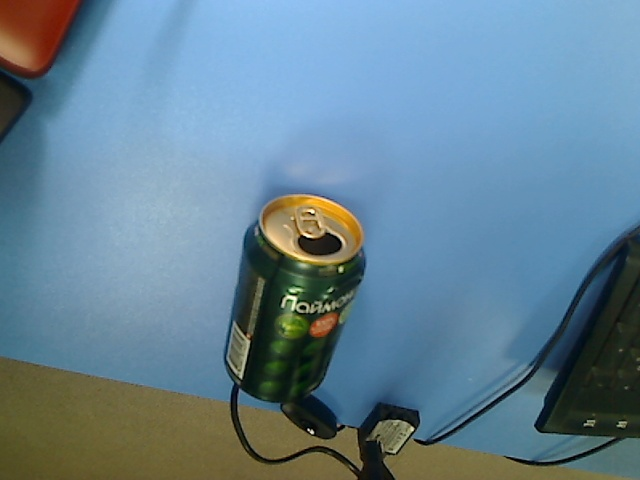can: (219, 189, 371, 407)
